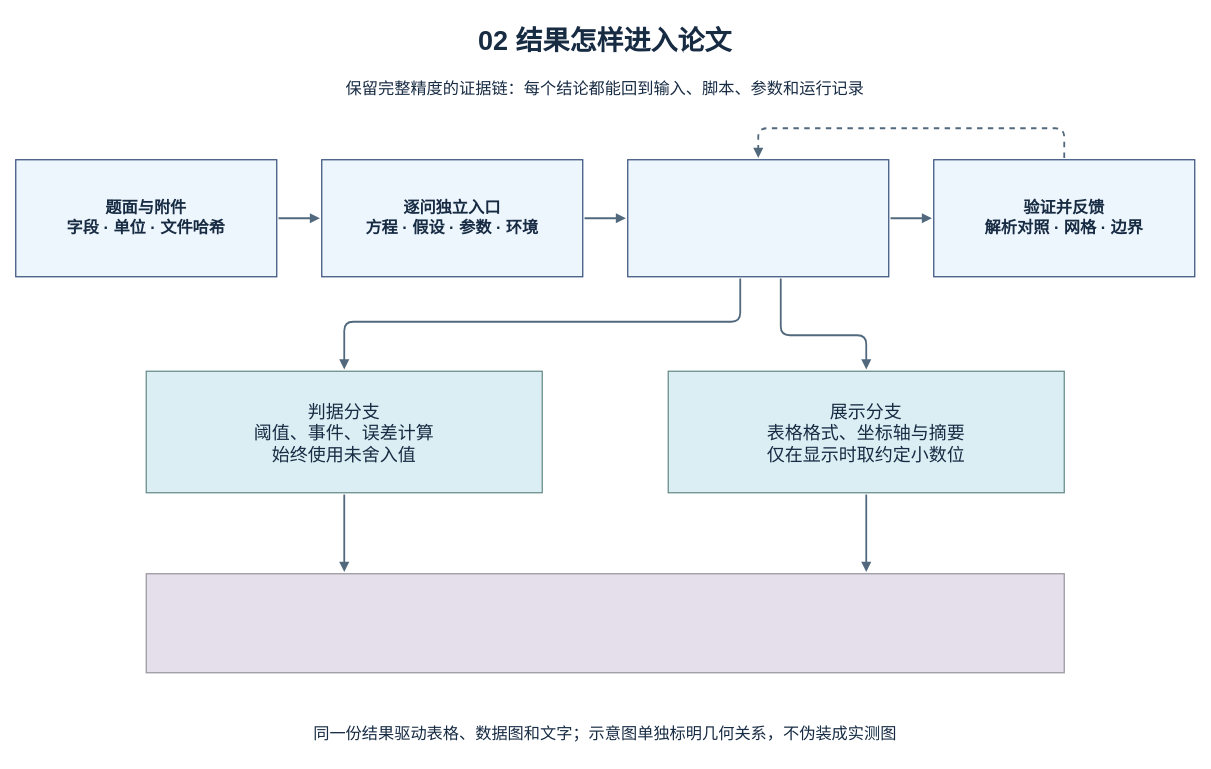
Image size: 1211x769. Some labels were removed from this diagram. The shapes that lost their labels are listed below. From the top down, each one's centre as x and y in pixels, then its label:
At (758,218): "原精度结果 数组 · 元数据 · 收敛记录 核验通过后再分流".
At (604,623): "正文中的每一问 方法 → 关键公式与范围 → 数值结果 → 物理/业务含义 → 适用边界".
